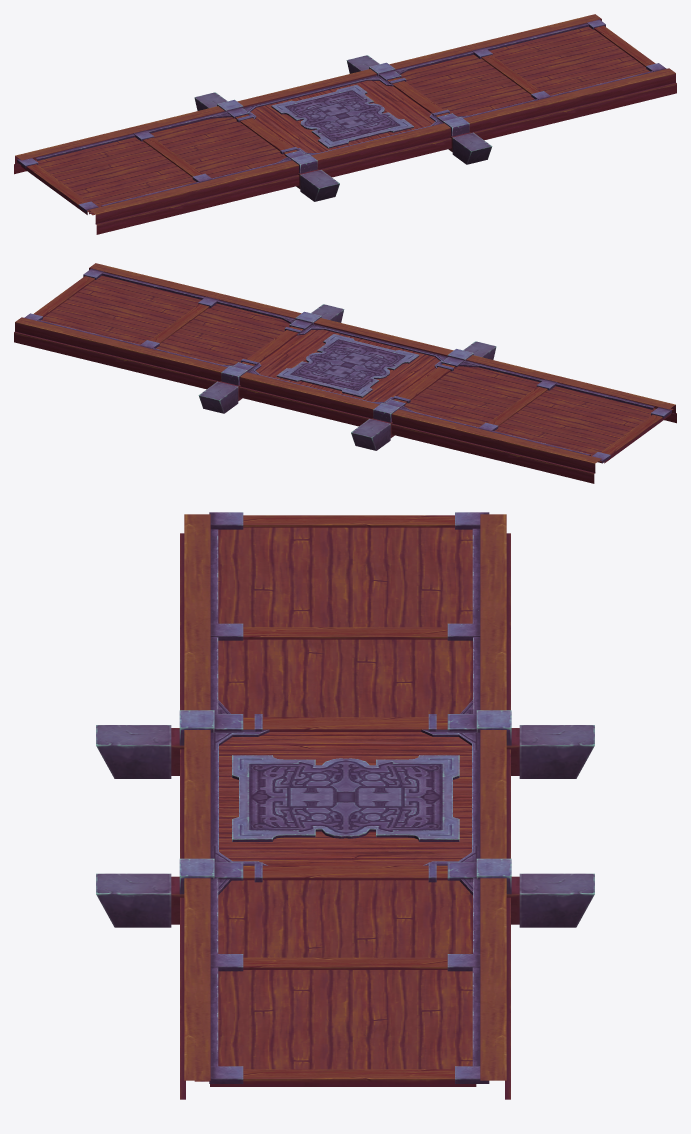
File: Stage_ZhuCheng_QiaoShen.FBX
3 views of the same model, one above another, from view 1: azimuth 30°, elevation 25°; view 2: azimuth 150°, elevation 25°; view 3: azimuth 270°, elevation 25° (orthographic). The views are drawn at different scales.
Visible parts, largest first — view 1: Stage_ZhuCheng_QiaoShen; view 2: Stage_ZhuCheng_QiaoShen; view 3: Stage_ZhuCheng_QiaoShen.
Boxes of the visible parts, x1,y1,x2,y2 form: Stage_ZhuCheng_QiaoShen: (14, 14, 676, 234); Stage_ZhuCheng_QiaoShen: (14, 263, 676, 483); Stage_ZhuCheng_QiaoShen: (96, 512, 594, 1099).
Size of the model in its own units: 2392 by 98.02 by 887.
